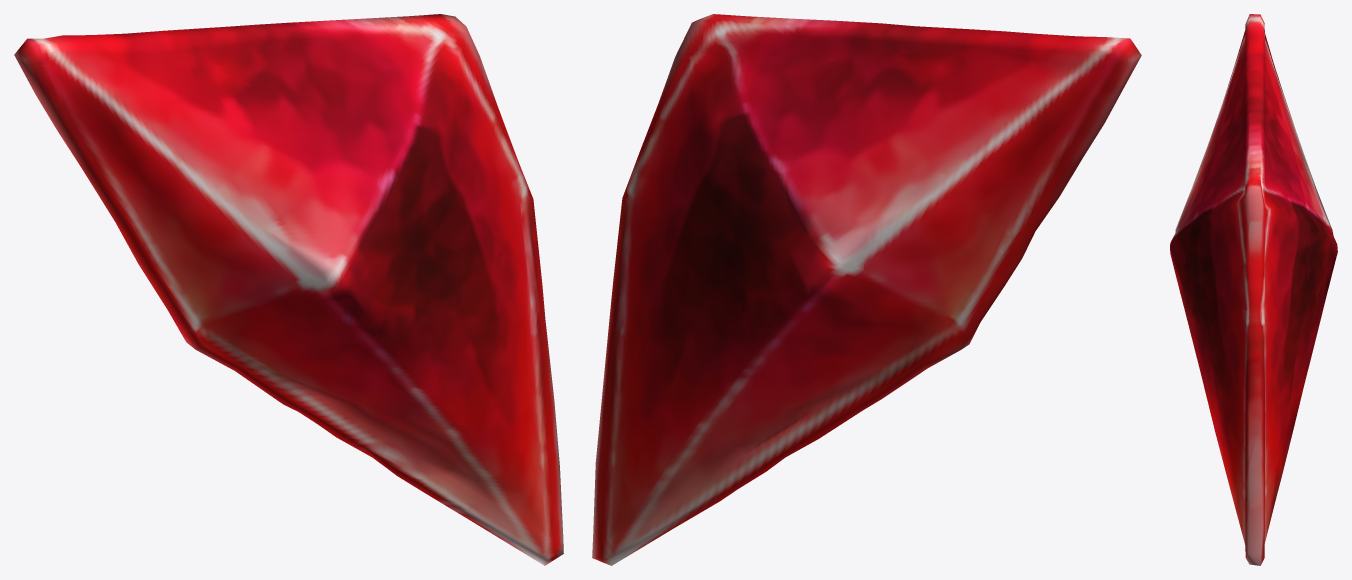
File: jewal 1.glb
3 views of the same model, side by side, from view 1: azimuth 30°, elevation 25°; view 2: azimuth 150°, elevation 25°; view 3: azimuth 270°, elevation 25° (orthographic). The views are drawn at different scales.
Visible parts, largest first — view 1: jewal 1; view 2: jewal 1; view 3: jewal 1.
Boxes of the visible parts, left/top/right/bottom form: jewal 1: left=14, top=14, right=563, bottom=565; jewal 1: left=592, top=14, right=1141, bottom=565; jewal 1: left=1170, top=14, right=1337, bottom=565.
Bounding box in the file's own units: 0.4423 × 0.5046 × 0.1934.
1 material, 1 textured.
